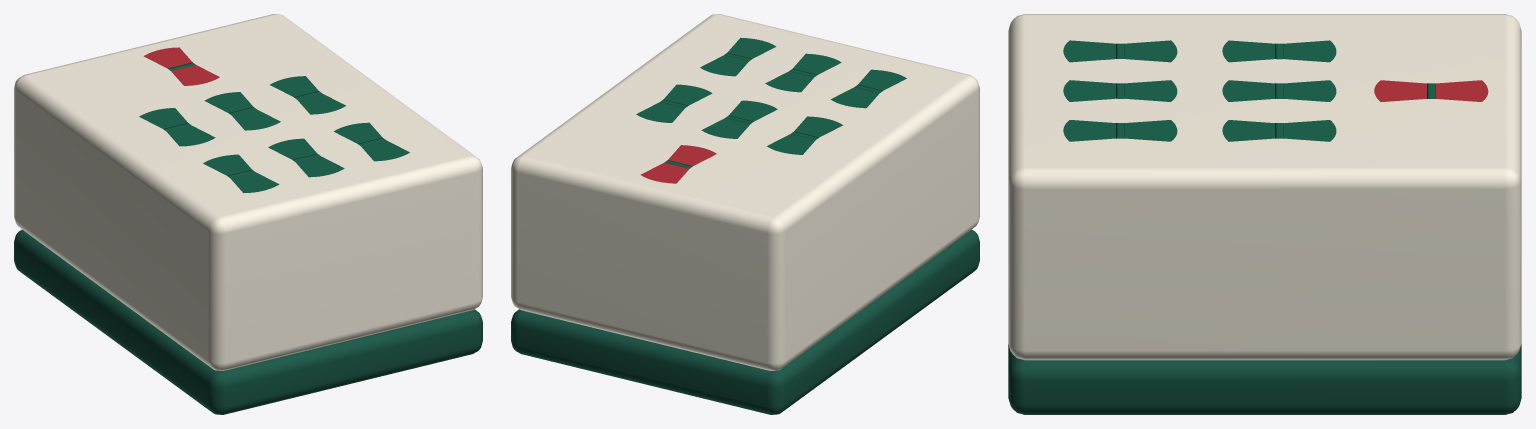
File: suo-07.glb
3 views of the same model, side by side, from view 1: azimuth 30°, elevation 25°; view 2: azimuth 150°, elevation 25°; view 3: azimuth 270°, elevation 25° (orthographic). The views are drawn at different scales.
Parts seen in each view (by area): view 1: suo-07_ivory, suo-07_back, suo-07_face_inlays; view 2: suo-07_ivory, suo-07_back, suo-07_face_inlays; view 3: suo-07_ivory, suo-07_back, suo-07_face_inlays.
Boxes of the visible parts, box(x1,y1,x2,y2) form: suo-07_ivory: box(14, 14, 482, 370); suo-07_back: box(14, 229, 482, 414); suo-07_face_inlays: box(139, 47, 409, 193); suo-07_ivory: box(511, 14, 979, 370); suo-07_back: box(511, 229, 979, 414); suo-07_face_inlays: box(636, 37, 906, 183); suo-07_ivory: box(1008, 14, 1521, 360); suo-07_back: box(1008, 344, 1521, 414); suo-07_face_inlays: box(1063, 40, 1488, 141).
Size of the model in its own units: 0.026 by 0.018 by 0.034.
